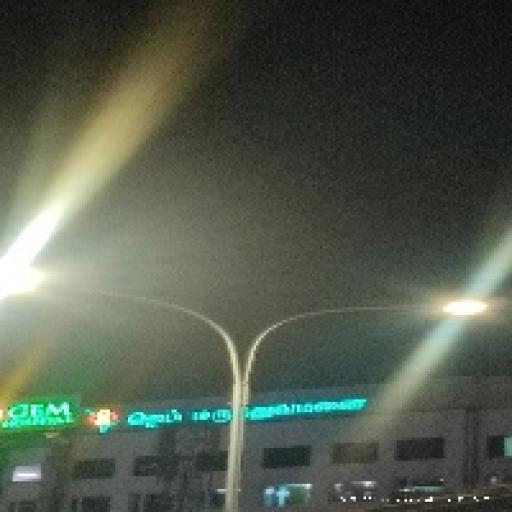Working: (431, 288, 495, 331)
